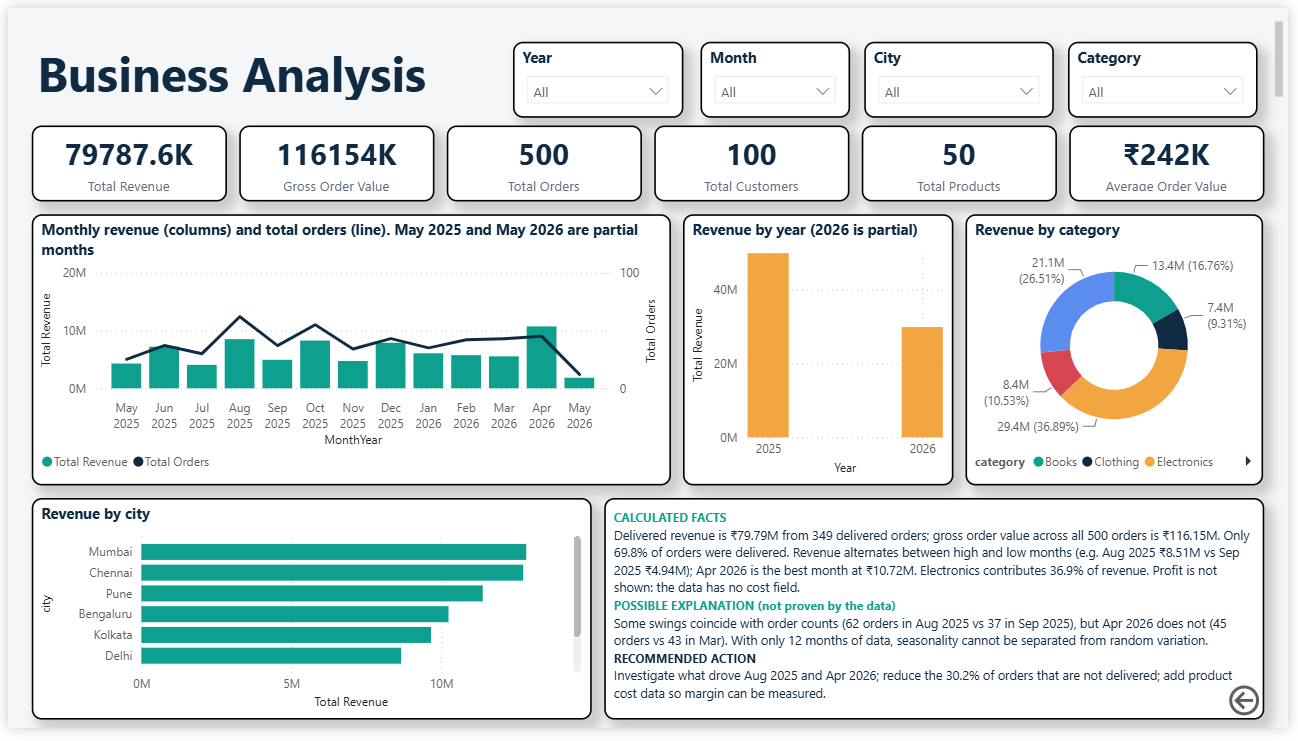

The dashboard page shown, as its layout file describes it:
{"tool":"powerbi","page":{"name":"1. Business Analysis","canvas":[1280,720],"ordinal":0},"visuals":[{"type":"textbox","box":[24.1,8.4,1255.9,88.1],"z":100},{"type":"slicer","title":"Year","fields":{"Values":["Date.Year"]},"box":[505.5,33.8,170.1,76],"z":300},{"type":"slicer","title":"Month","fields":{"Values":["Date.MonthName"]},"box":[692.5,33.8,149.6,76],"z":400},{"type":"slicer","title":"City","fields":{"Values":["Customers.city"]},"box":[856.6,33.8,189.4,76],"z":500},{"type":"slicer","title":"Category","fields":{"Values":["Products.category"]},"box":[1060.5,33.8,189.4,76],"z":600},{"type":"card","fields":{"Values":["_Measures.Total Revenue"]},"box":[24,118,195,76],"z":700},{"type":"card","fields":{"Values":["_Measures.Gross Order Value"]},"box":[231.4,118,195,76],"z":800},{"type":"card","fields":{"Values":["_Measures.Total Orders"]},"box":[438.8,118,195,76],"z":900},{"type":"card","fields":{"Values":["_Measures.Total Customers"]},"box":[646.2,118,195,76],"z":1000},{"type":"card","fields":{"Values":["_Measures.Total Products"]},"box":[853.6,118,195,76],"z":1100},{"type":"card","fields":{"Values":["_Measures.Average Order Value"]},"box":[1061,118,195,76],"z":1200},{"type":"lineClusteredColumnComboChart","title":"Monthly revenue (columns) and total orders (line). May 2025 and May 2026 are partial months","fields":{"Category":["Date.MonthYear"],"Y":["_Measures.Total Revenue"],"Y2":["_Measures.Total Orders"]},"box":[24.1,206.3,639.4,271.4],"z":1300},{"type":"clusteredColumnChart","title":"Revenue by year (2026 is partial)","fields":{"Category":["Date.Year"],"Y":["_Measures.Total Revenue"]},"box":[675.6,206.3,270.2,271.4],"z":1400},{"type":"donutChart","title":"Revenue by category","fields":{"Category":["Products.category"],"Y":["_Measures.Total Revenue"]},"box":[957.9,206.3,298,271.4],"z":1500},{"type":"clusteredBarChart","title":"Revenue by city","fields":{"Category":["Customers.city"],"Y":["_Measures.Total Revenue"]},"box":[24.1,489.8,559.8,222],"z":1600},{"type":"textbox","box":[596,489.8,659.9,222],"z":1700},{"type":"actionButton","box":[1216.1,672,39.8,39.8],"z":1701}]}

Visuals, with their boxes in screenshot pixels (x1, y1, x2, y2), scaled from the page's 1280x720 canvas onto the 1298x741 screenshot:
textbox: (24,9,1297,99)
"Year" slicer: (513,35,685,113)
"Month" slicer: (702,35,854,113)
"City" slicer: (869,35,1061,113)
"Category" slicer: (1075,35,1267,113)
card - _Measures.Total Revenue: (24,121,222,200)
card - _Measures.Gross Order Value: (235,121,432,200)
card - _Measures.Total Orders: (445,121,643,200)
card - _Measures.Total Customers: (655,121,853,200)
card - _Measures.Total Products: (866,121,1063,200)
card - _Measures.Average Order Value: (1076,121,1274,200)
"Monthly revenue (columns) and total orders (line). May 2025 and May 2026 are partial months" lineClusteredColumnComboChart: (24,212,673,492)
"Revenue by year (2026 is partial)" clusteredColumnChart: (685,212,959,492)
"Revenue by category" donutChart: (971,212,1274,492)
"Revenue by city" clusteredBarChart: (24,504,592,733)
textbox: (604,504,1274,733)
actionButton: (1233,692,1274,733)
